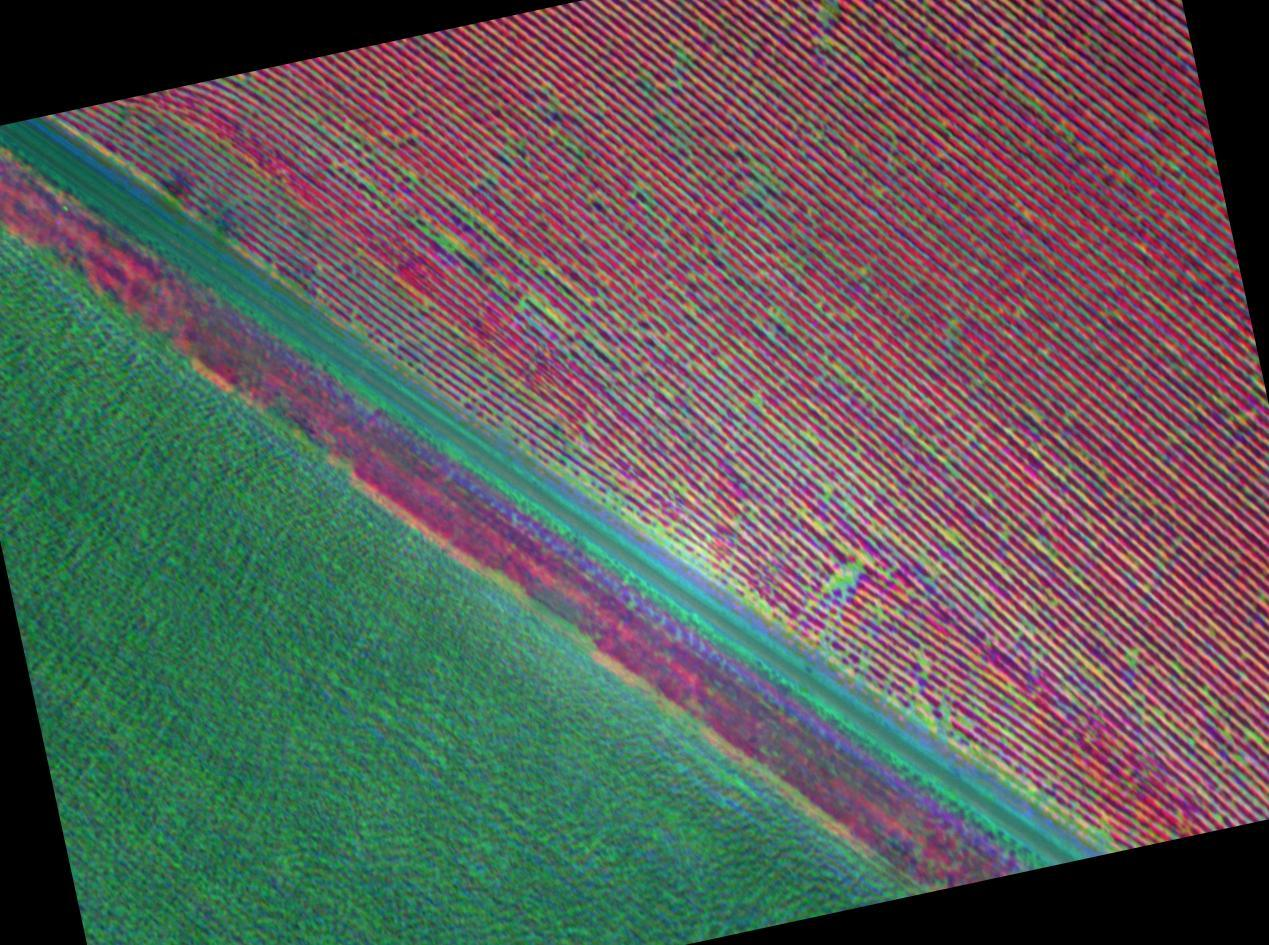dc: (838, 573, 853, 590), (949, 529, 961, 539), (821, 10, 832, 20)
